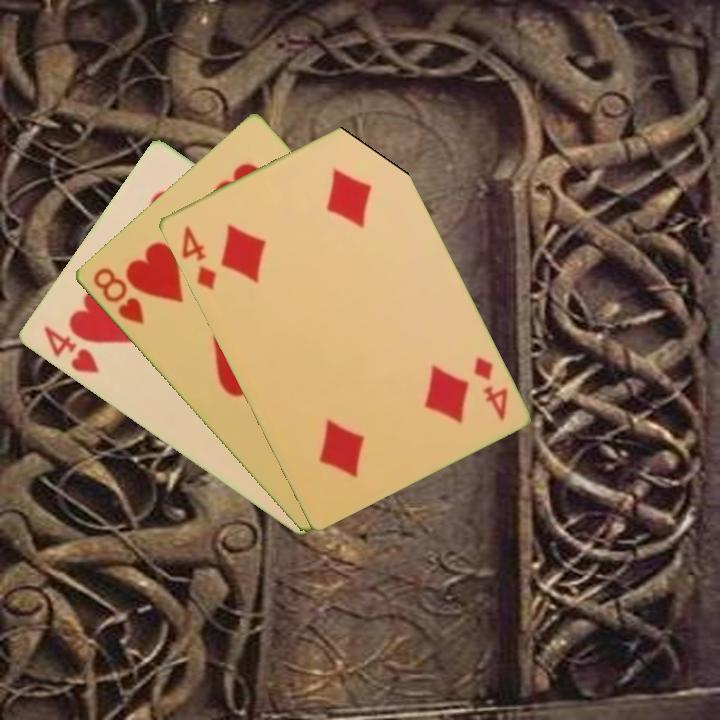4d: (177, 222, 219, 293), (469, 353, 511, 424)
4h: (40, 322, 102, 377)
8h: (88, 264, 147, 328)
